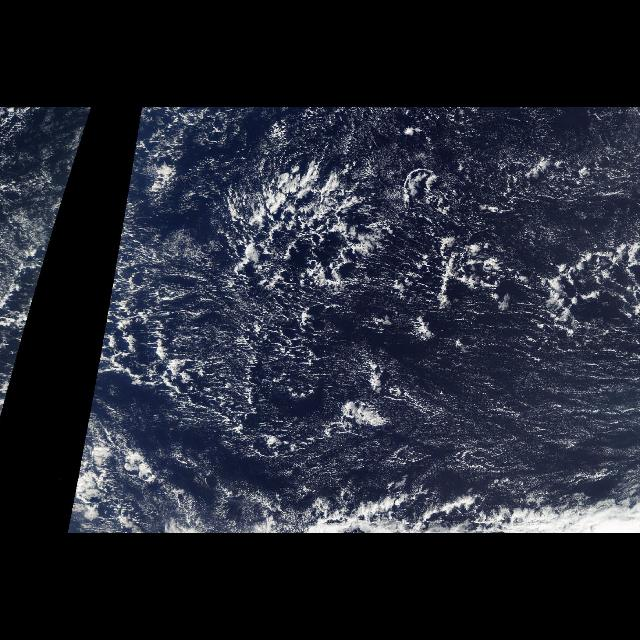Gravel: (92, 222, 304, 412), (407, 233, 639, 321)
Sugar: (143, 280, 639, 506), (301, 108, 639, 242), (0, 110, 91, 300)
